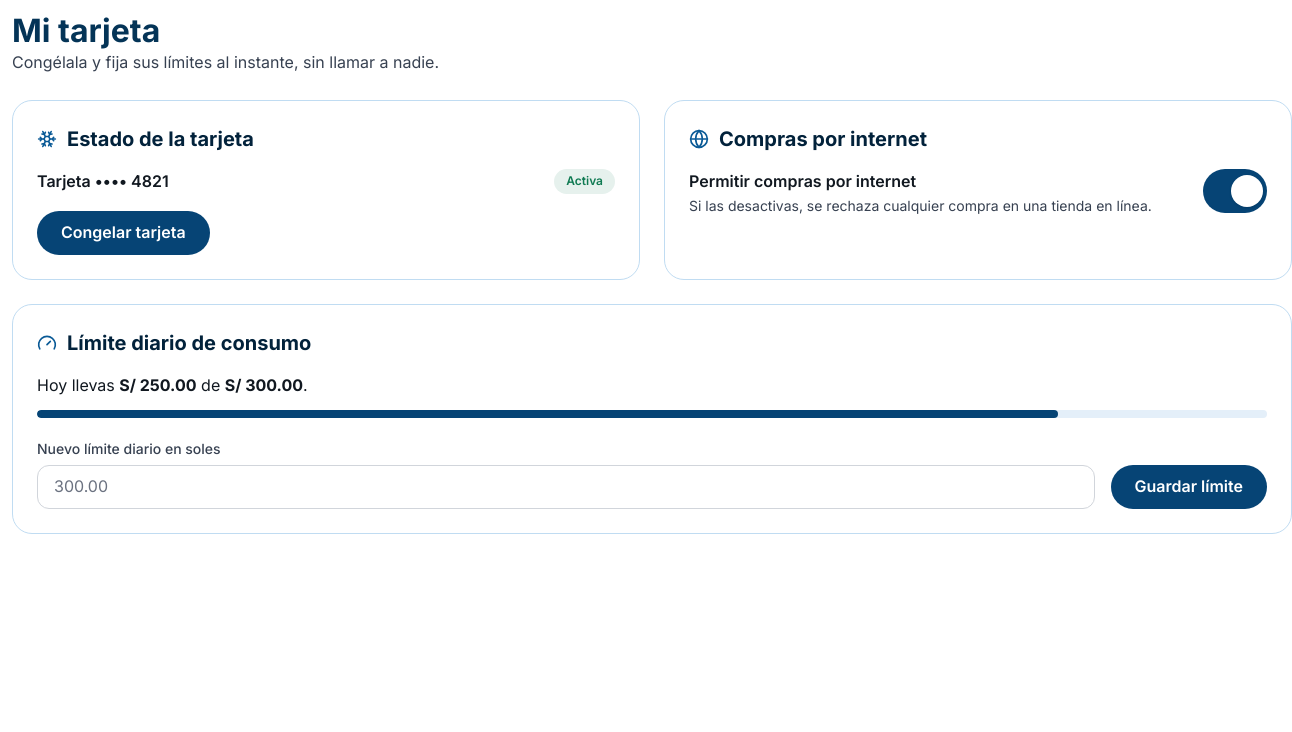
it: Controles de la tarjeta · HU-10 · AYNI-252 › guarda un límite válido, normalizado, sin tocar las compras por internet
Check: the heading "Estado de la tarjeta" is shown, box x1=37 y1=127 x2=254 y2=151
Type "500,5" into the field labelled "Nuevo límite diario en soles" at (566,487), box x1=37 y1=465 x2=1094 y2=509
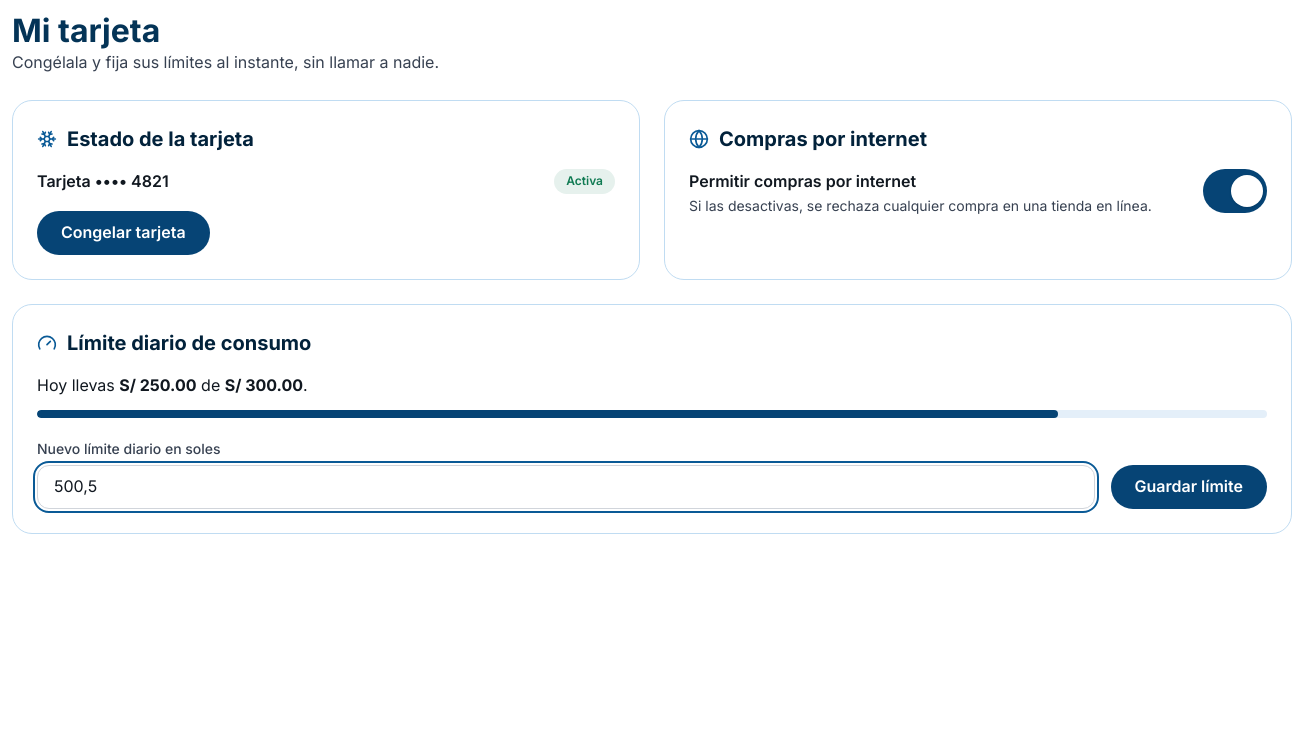
Click the button "Guardar límite" at (1189,487), box x1=1110 y1=465 x2=1267 y2=509
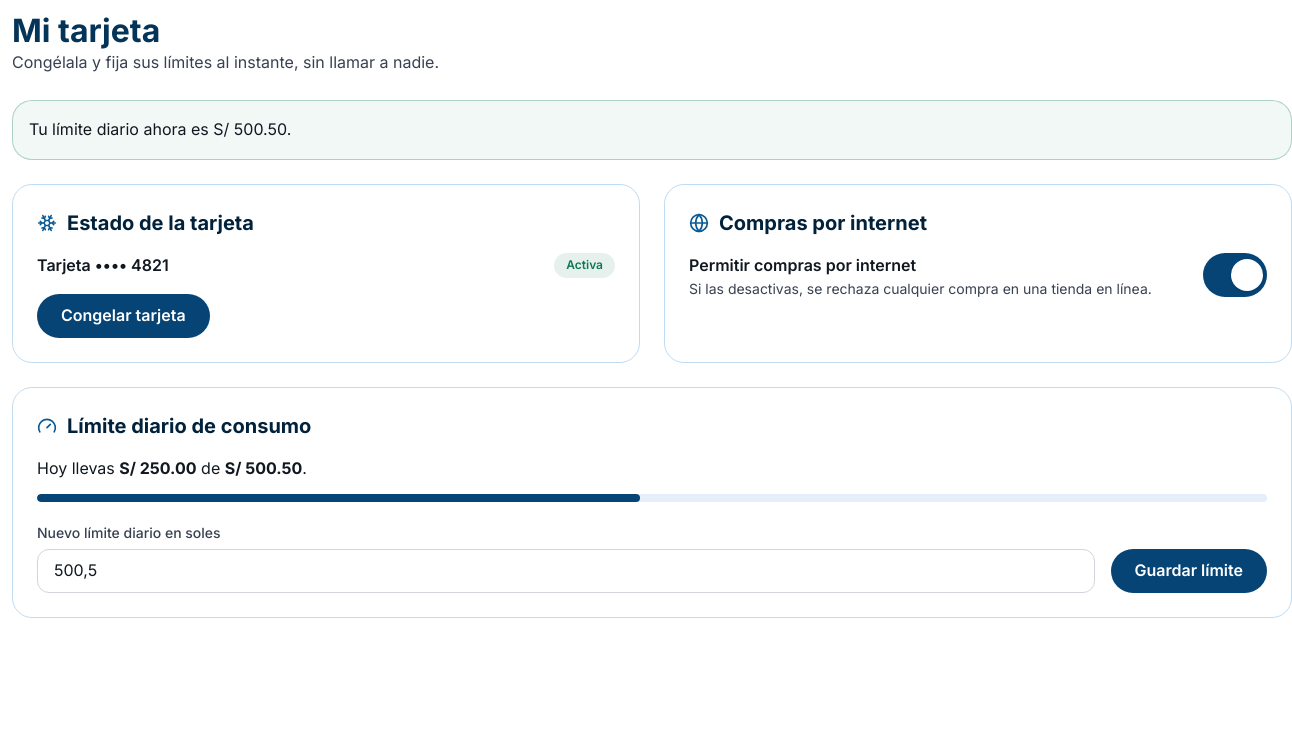
Check: the message reads "Tu límite diario ahora es S/ 500.50.", box x1=29 y1=119 x2=291 y2=139
